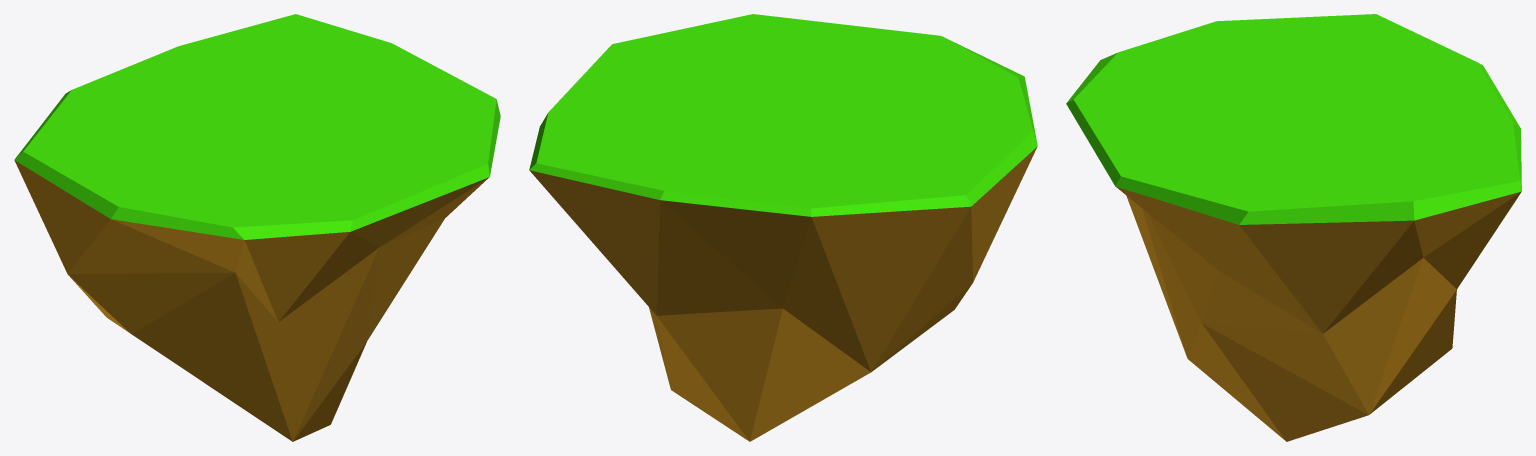
Rendered from SmallestHoverWorld5.fbx.
3 renders of one model, left to right at view 1: azimuth 30°, elevation 25°; view 2: azimuth 150°, elevation 25°; view 3: azimuth 270°, elevation 25°, orthographic. The views are drawn at different scales.
Parts seen in each view (by area): view 1: Icosphere; view 2: Icosphere; view 3: Icosphere.
Boxes of the visible parts, x1=… form: Icosphere: x1=14, y1=14, x2=500, y2=441; Icosphere: x1=529, y1=14, x2=1037, y2=441; Icosphere: x1=1066, y1=14, x2=1521, y2=441.
Size of the model in its own units: 865 by 604 by 829.
